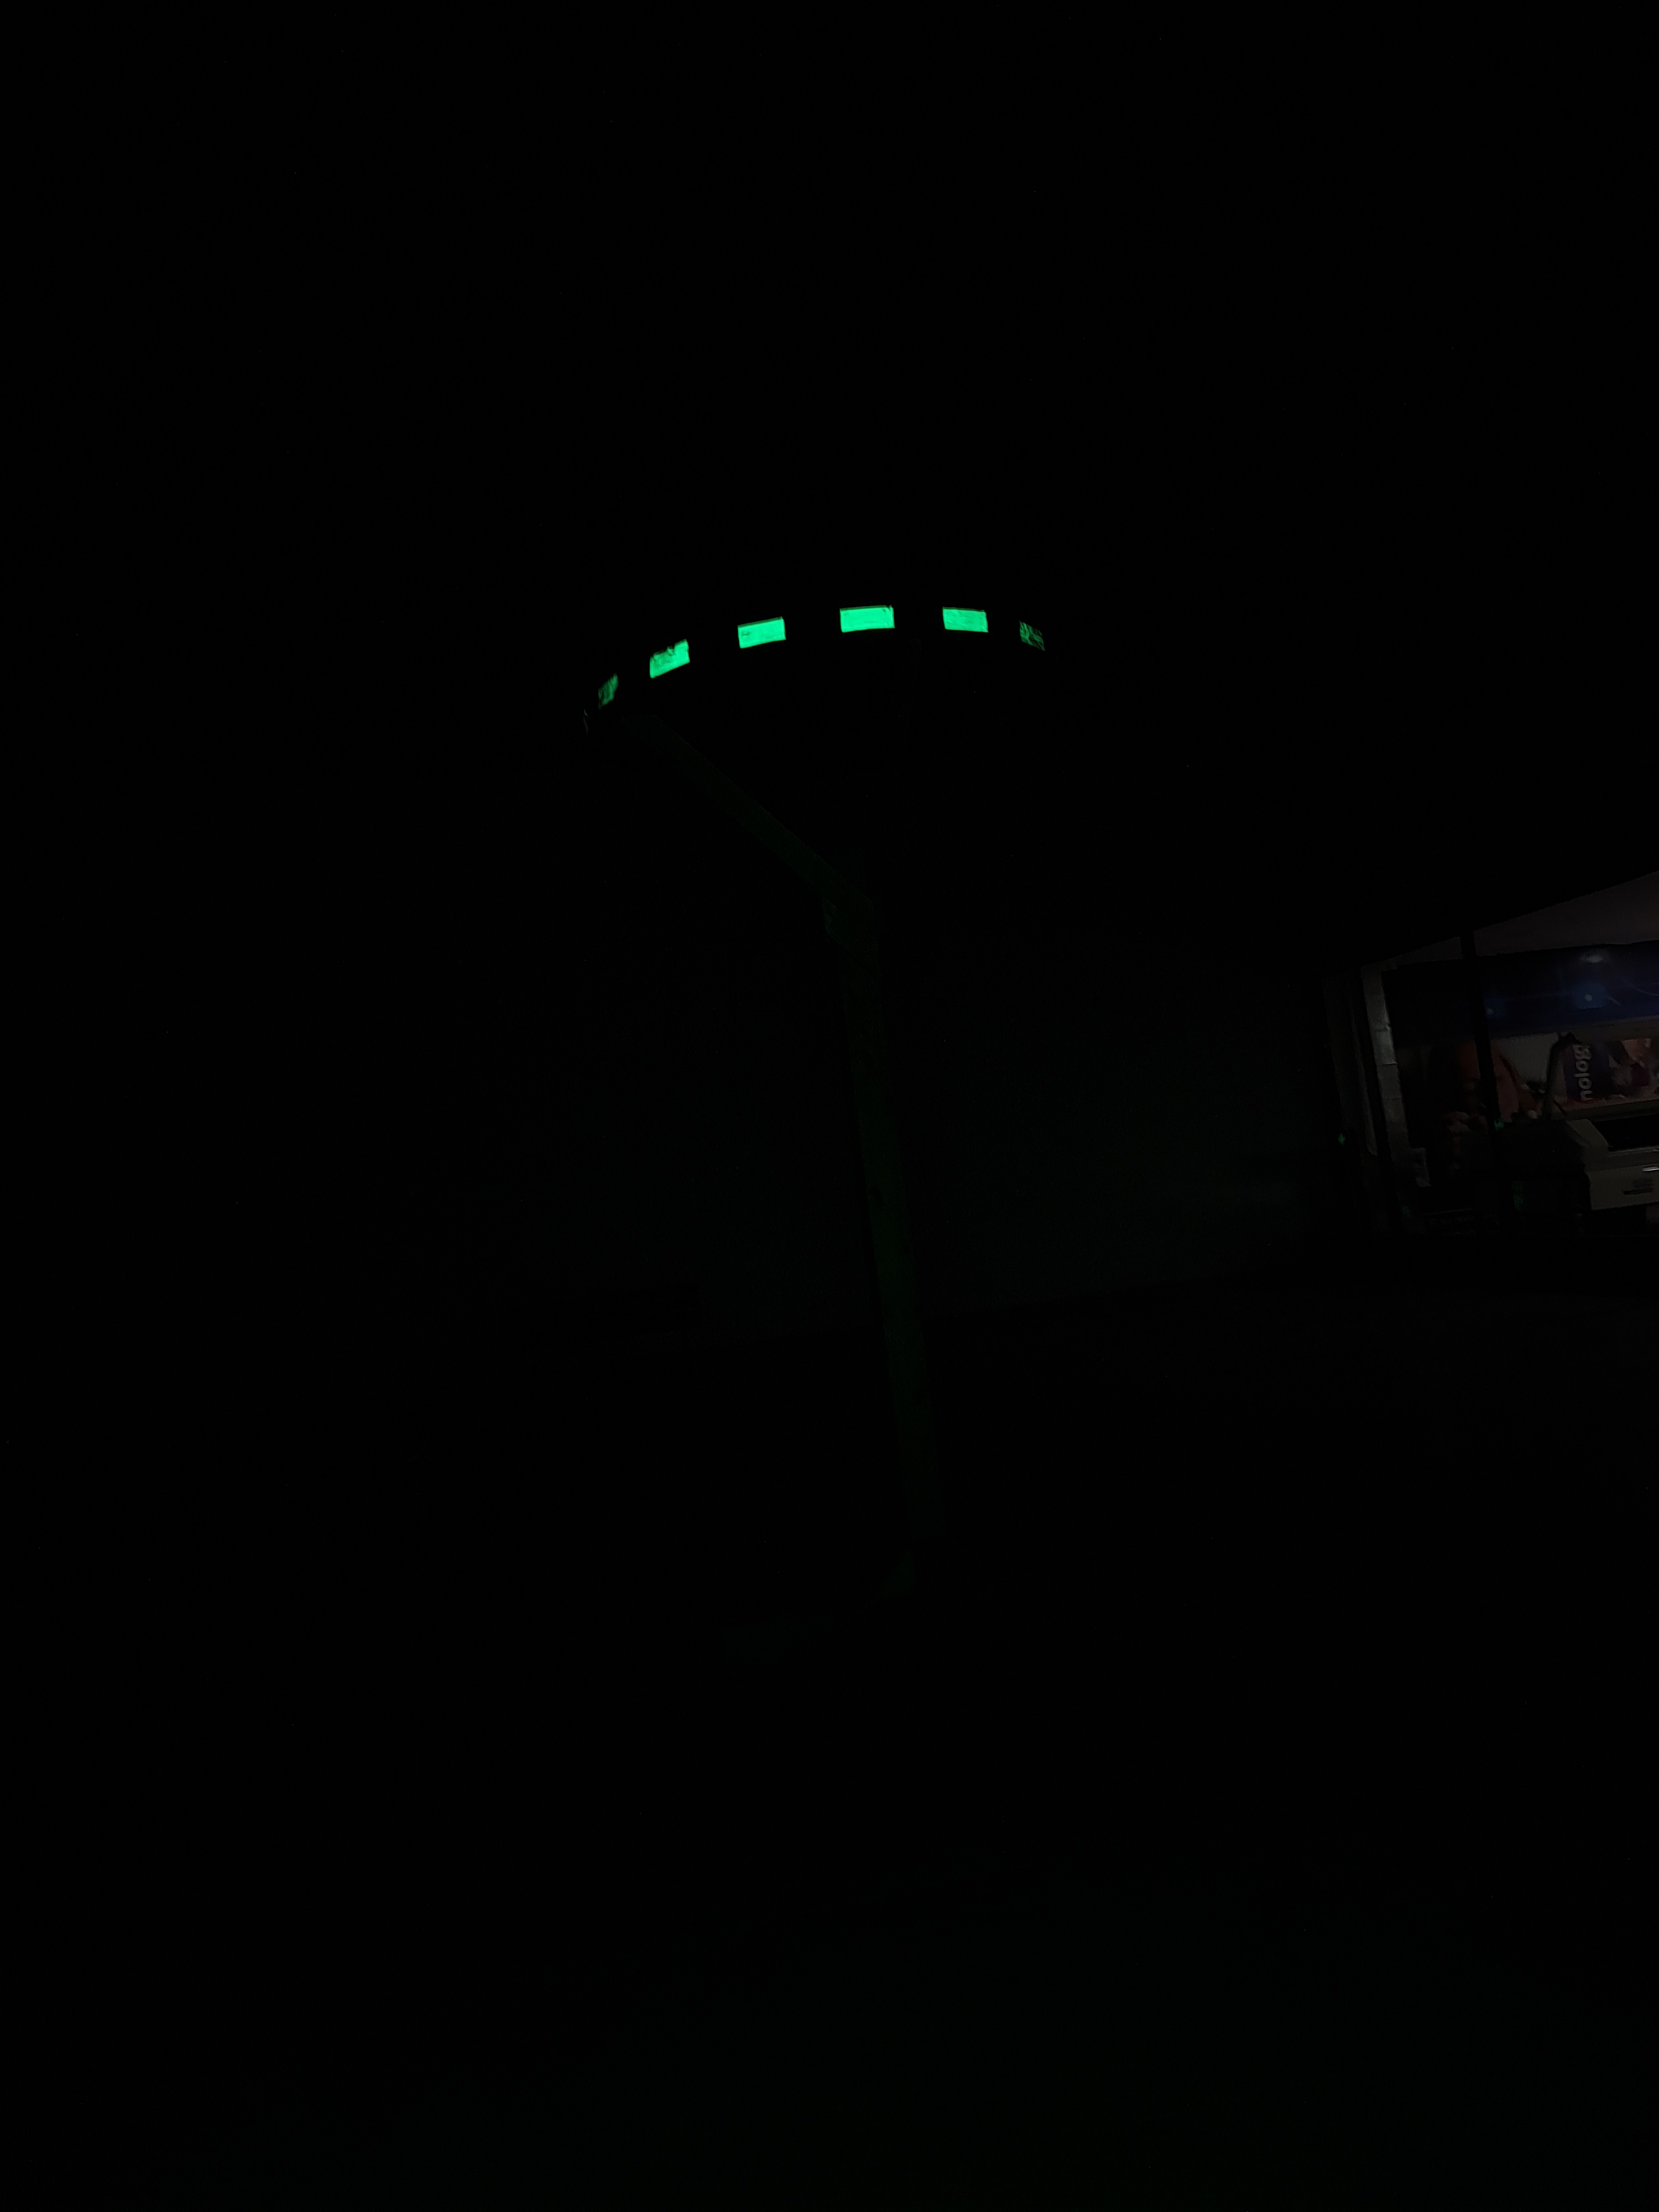hoop: (570, 571, 1072, 723)
